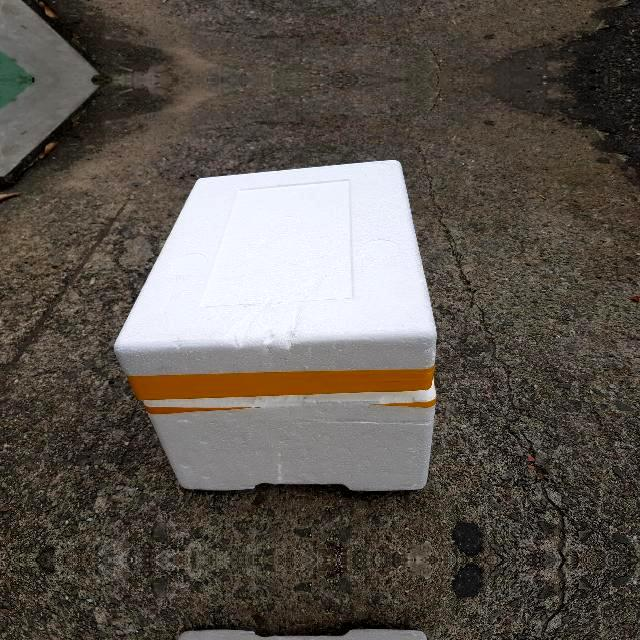Styrofoam: (116, 158, 440, 494), (114, 160, 437, 491)
